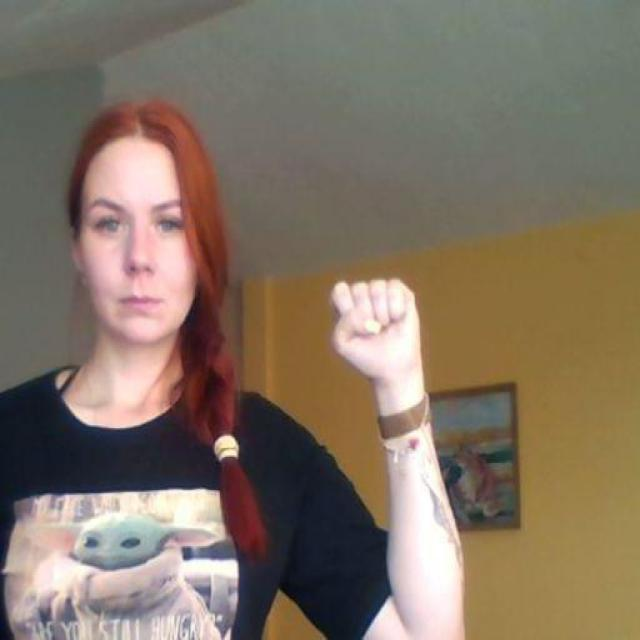hand: (330, 276, 428, 412)
